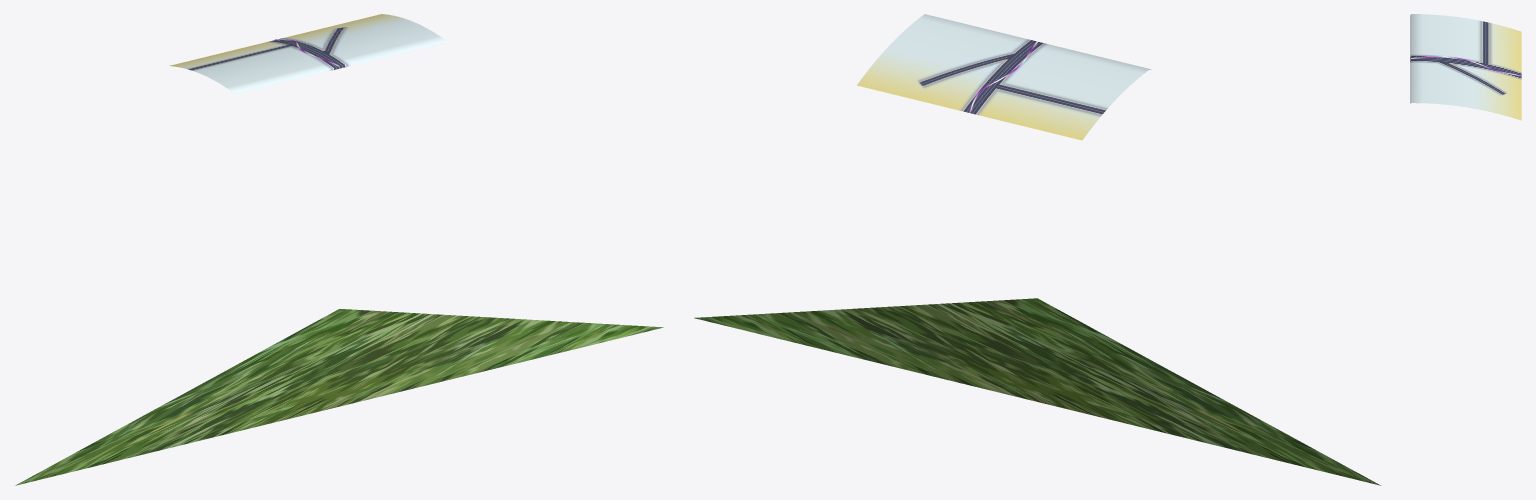
The picture shows the model from 3 angles, left to right: view 1: azimuth 30°, elevation 25°; view 2: azimuth 150°, elevation 25°; view 3: azimuth 270°, elevation 25°; orthographic projection. The views are drawn at different scales.
Parts seen in each view (by area): view 1: Obj, LocNY3; view 2: Obj, LocNY3; view 3: LocNY3, WireNY3.
Part boxes in pixels (x1,y1,x2,y2): Obj: (15, 309, 663, 485); LocNY3: (169, 14, 446, 94); Obj: (694, 298, 1380, 485); LocNY3: (857, 14, 1150, 140); LocNY3: (1410, 14, 1521, 120); WireNY3: (1411, 56, 1521, 76).
Bounding box in the file's own units: 200 × 100 × 34.64.
